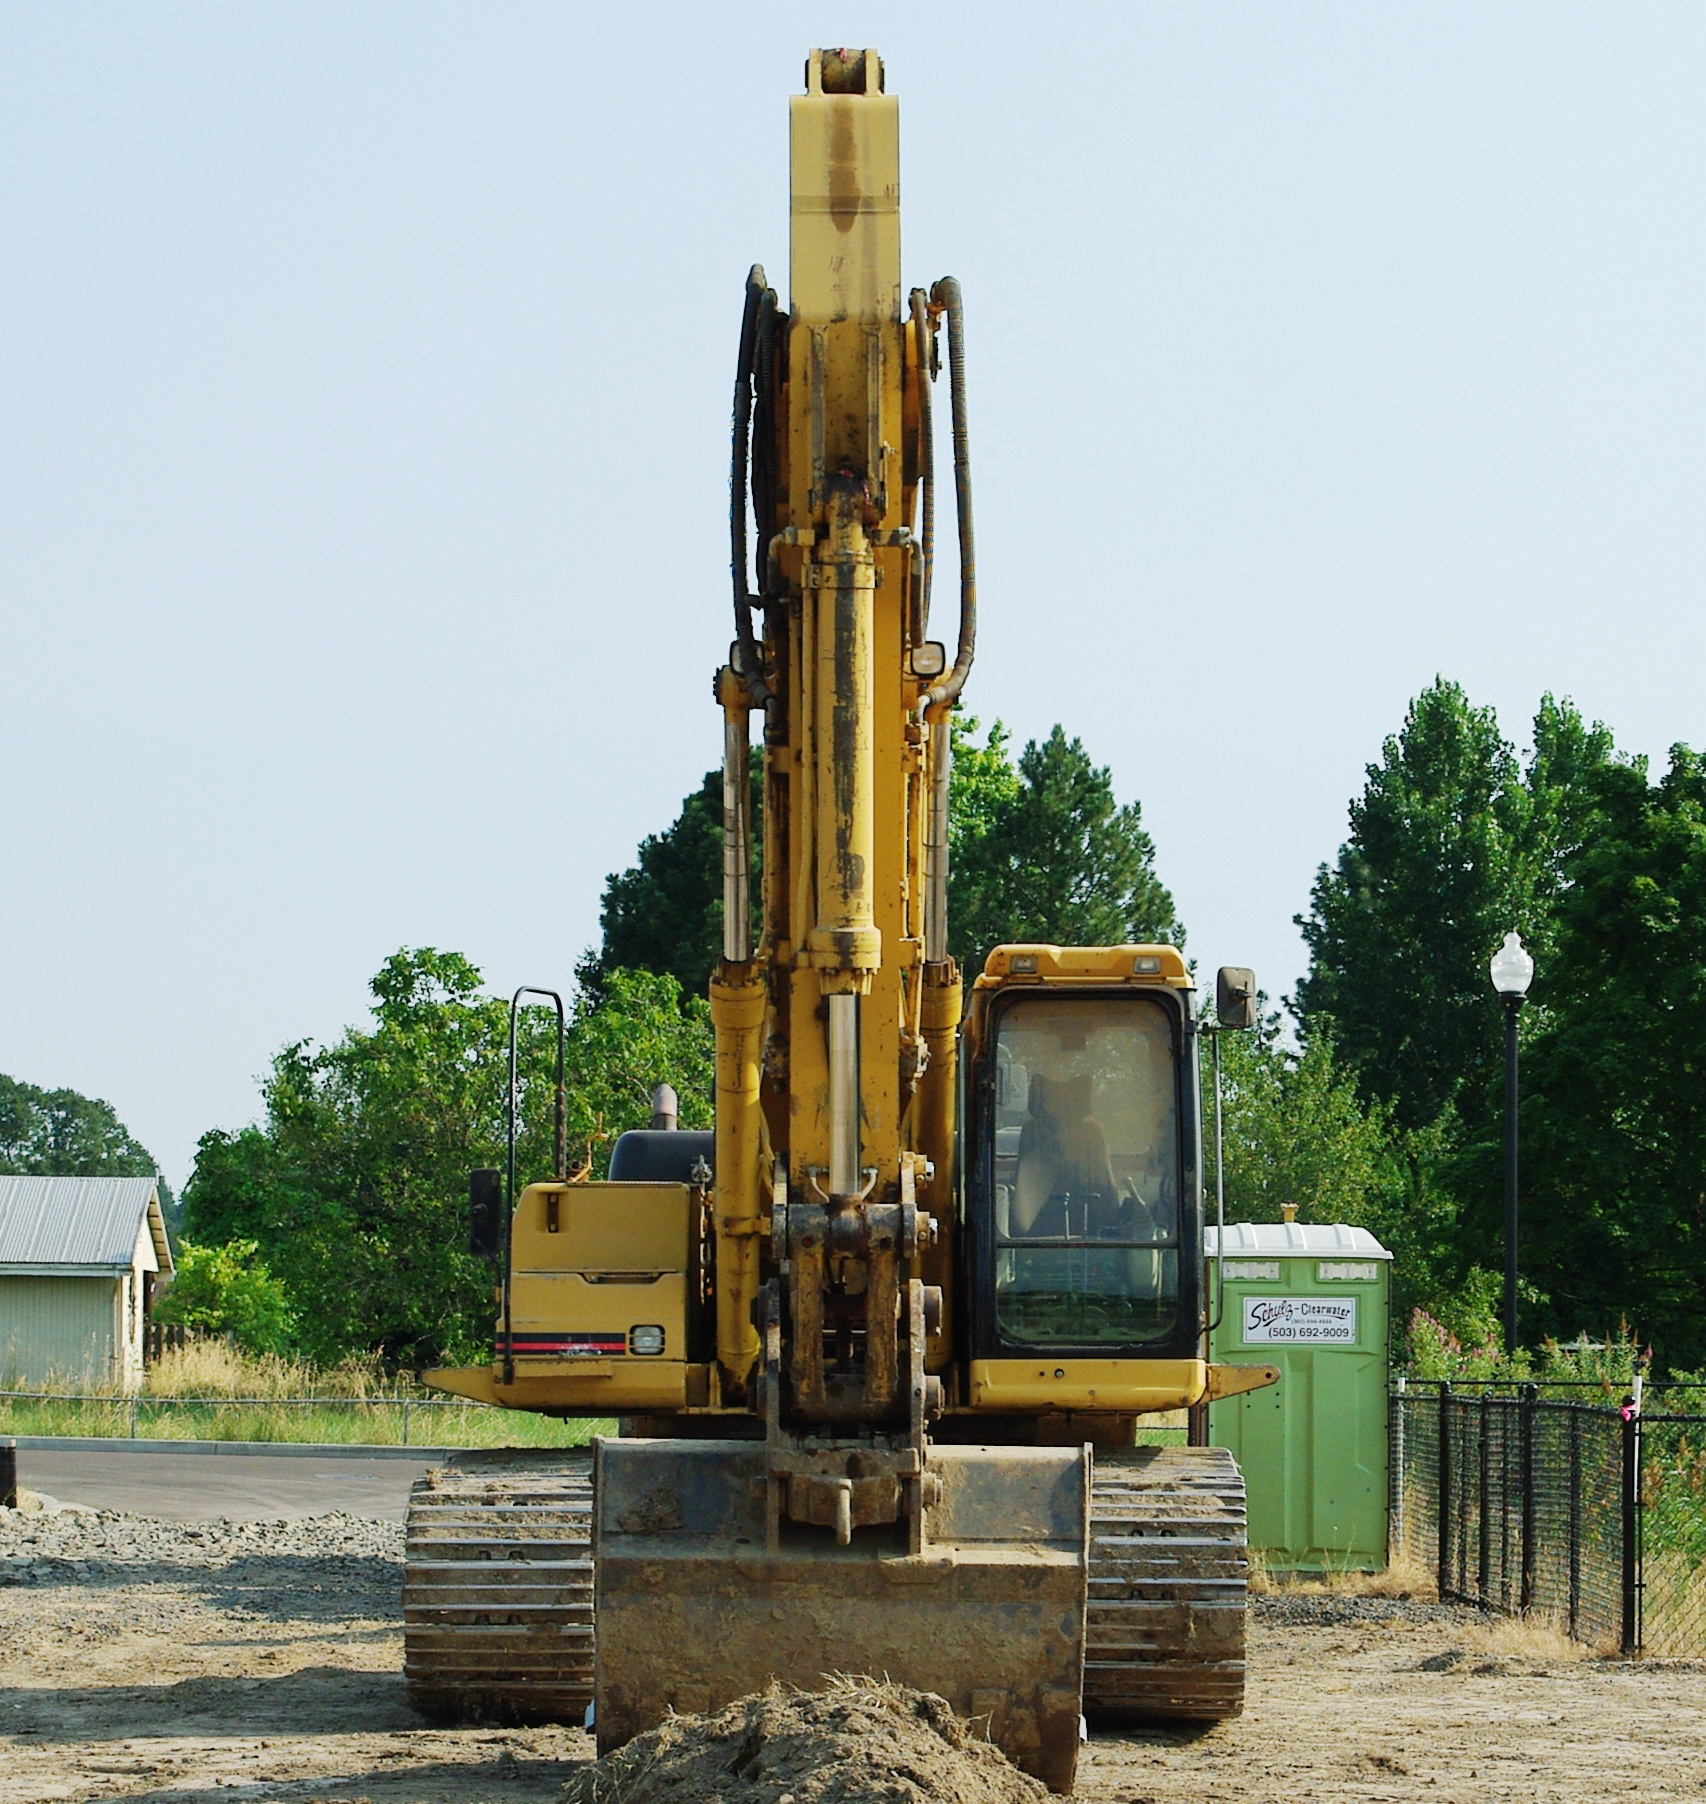excavator: (428, 26, 1260, 1804)
